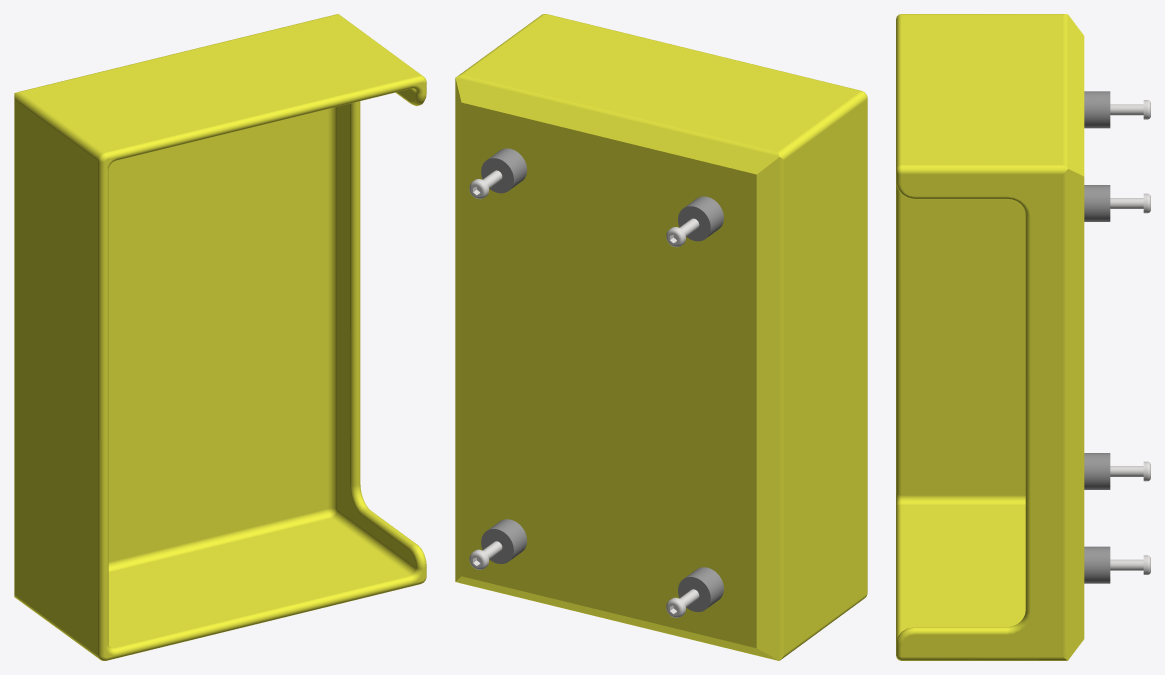
The model's file is canecaAmarilla.dae.
3 views of the same model, side by side, from view 1: azimuth 30°, elevation 25°; view 2: azimuth 150°, elevation 25°; view 3: azimuth 270°, elevation 25° (orthographic). The views are drawn at different scales.
Visible parts, largest first — view 1: ensambleCanecaTapaSlideYellow; view 2: ensambleCanecaTapaSlideYellow; view 3: ensambleCanecaTapaSlideYellow.
Part boxes in pixels (box(x1,y1,x2,y2)): ensambleCanecaTapaSlideYellow: box(14, 14, 426, 660); ensambleCanecaTapaSlideYellow: box(455, 14, 867, 660); ensambleCanecaTapaSlideYellow: box(896, 14, 1150, 660).
Bounding box in the file's own units: 100 × 69 × 148.
